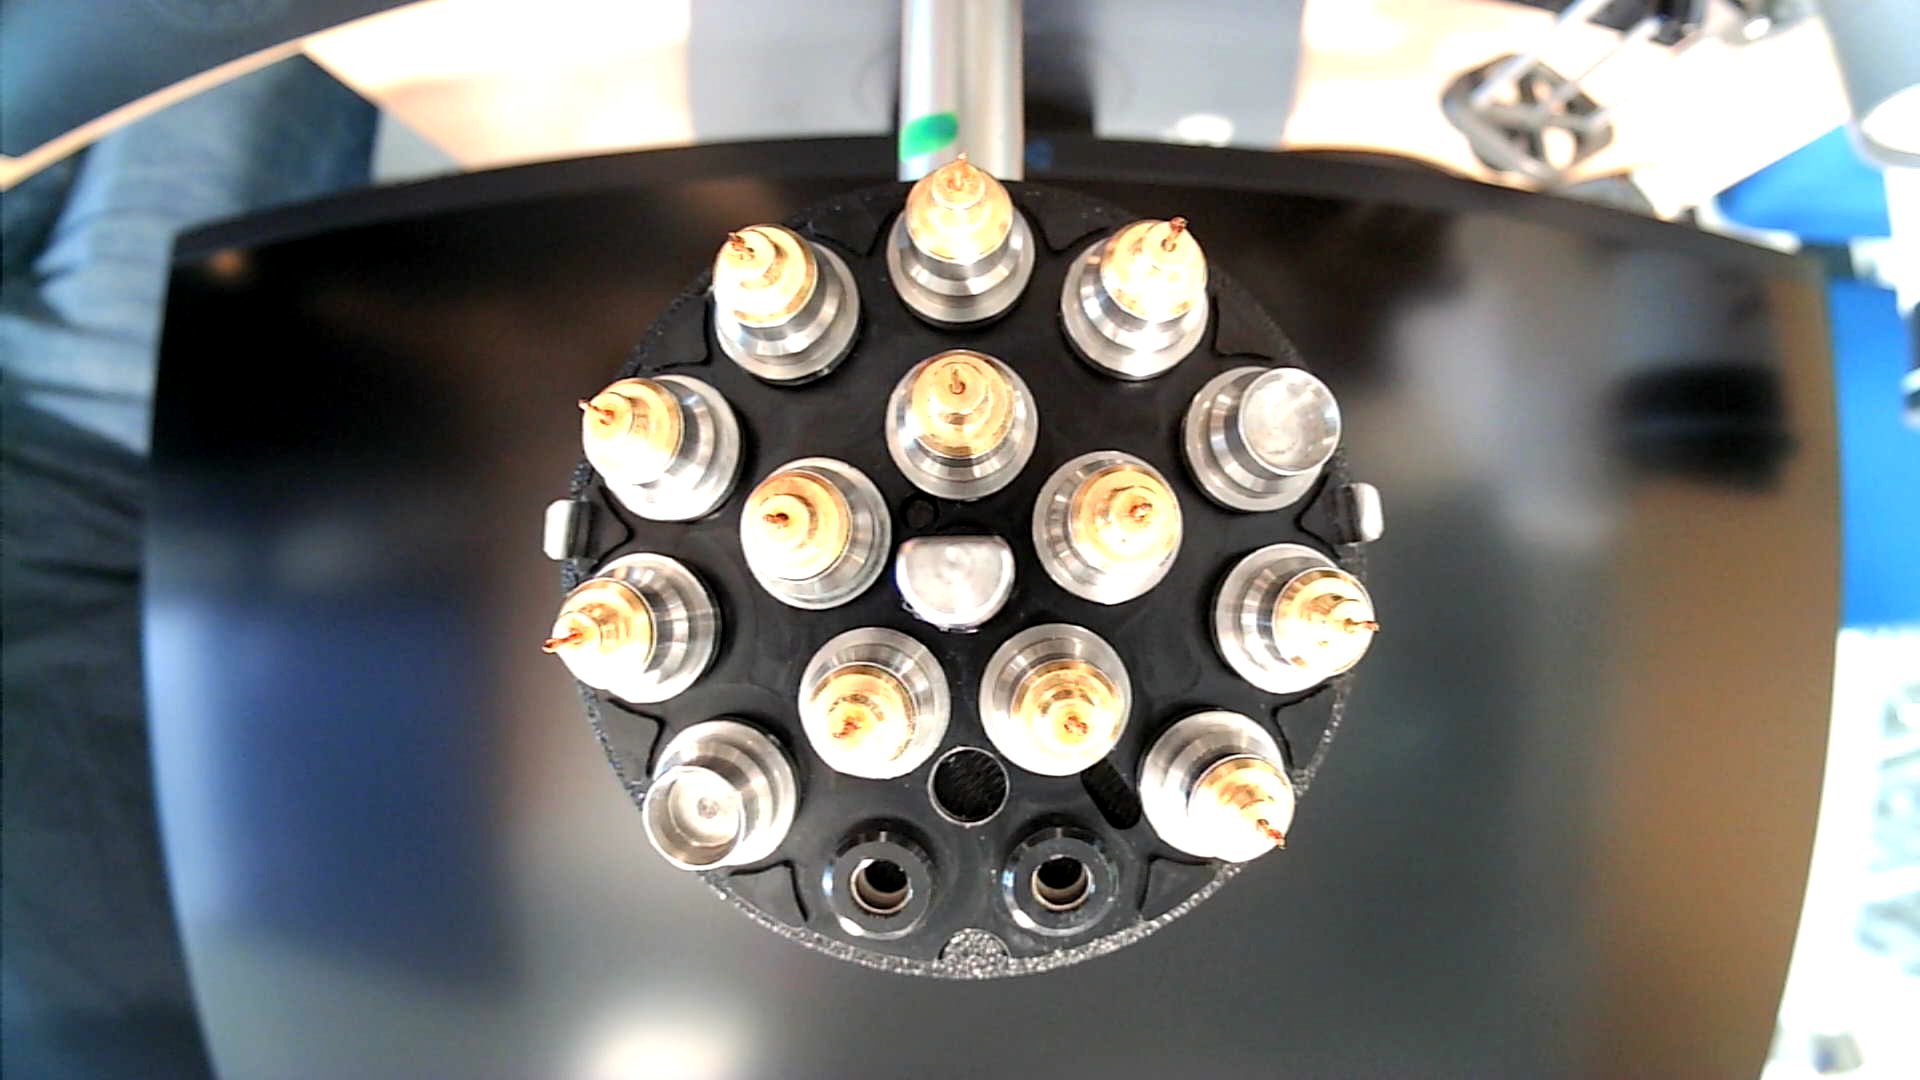adapter: (1180, 360, 1342, 518), (640, 715, 798, 874)
empty: (996, 818, 1129, 947), (820, 818, 942, 944)
hole: (924, 742, 1013, 833)
pin: (541, 549, 725, 703), (1207, 542, 1379, 699), (886, 152, 1039, 327), (574, 371, 742, 527), (708, 222, 864, 392), (1060, 214, 1211, 385), (1135, 707, 1296, 866), (794, 625, 953, 782), (882, 345, 1042, 502), (1030, 447, 1184, 607), (737, 451, 891, 611), (976, 620, 1131, 777)
rod: (891, 531, 1019, 640)
